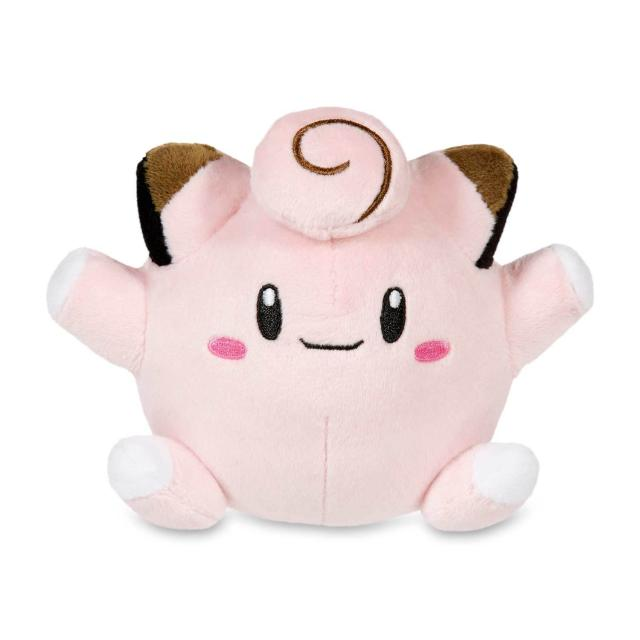Clefairy: (50, 114, 607, 559)
